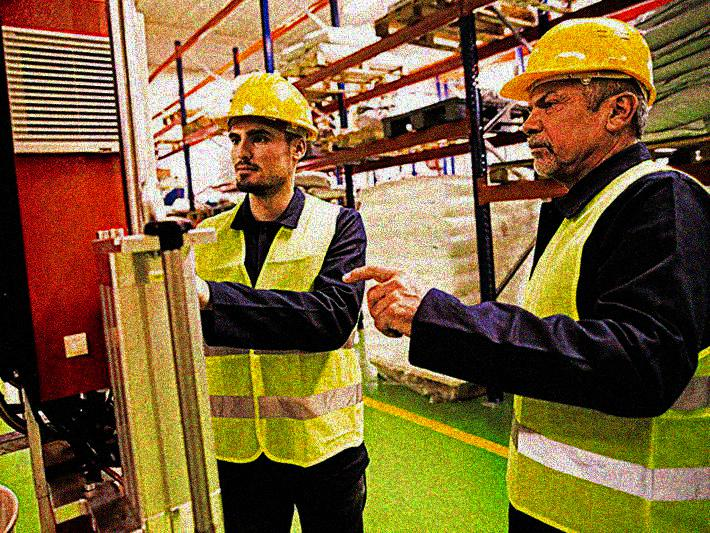helmet: (498, 15, 657, 180), (221, 71, 318, 192)
